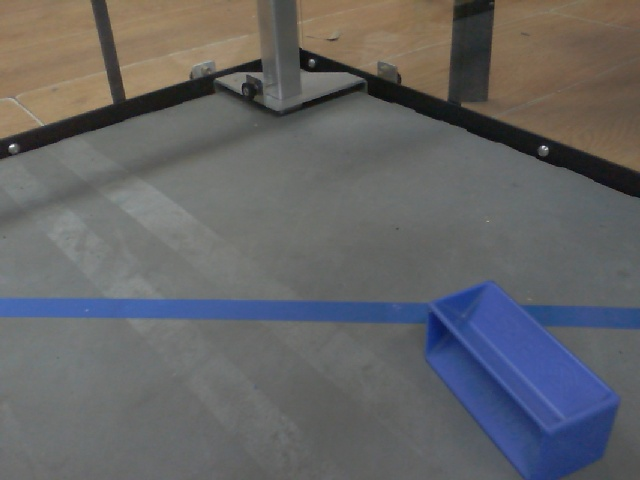BlueSample: (420, 275, 627, 480)
